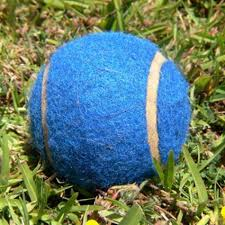blue ball: (29, 31, 191, 189)
